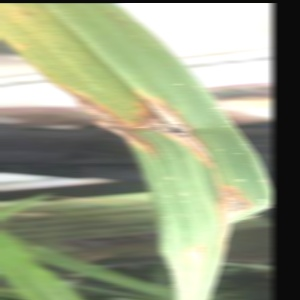Brown_Spot: (57, 81, 156, 147), (134, 83, 213, 158), (204, 166, 267, 237), (182, 234, 222, 288)
